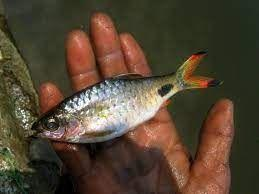Black Spotted Barb: (29, 50, 224, 146)
